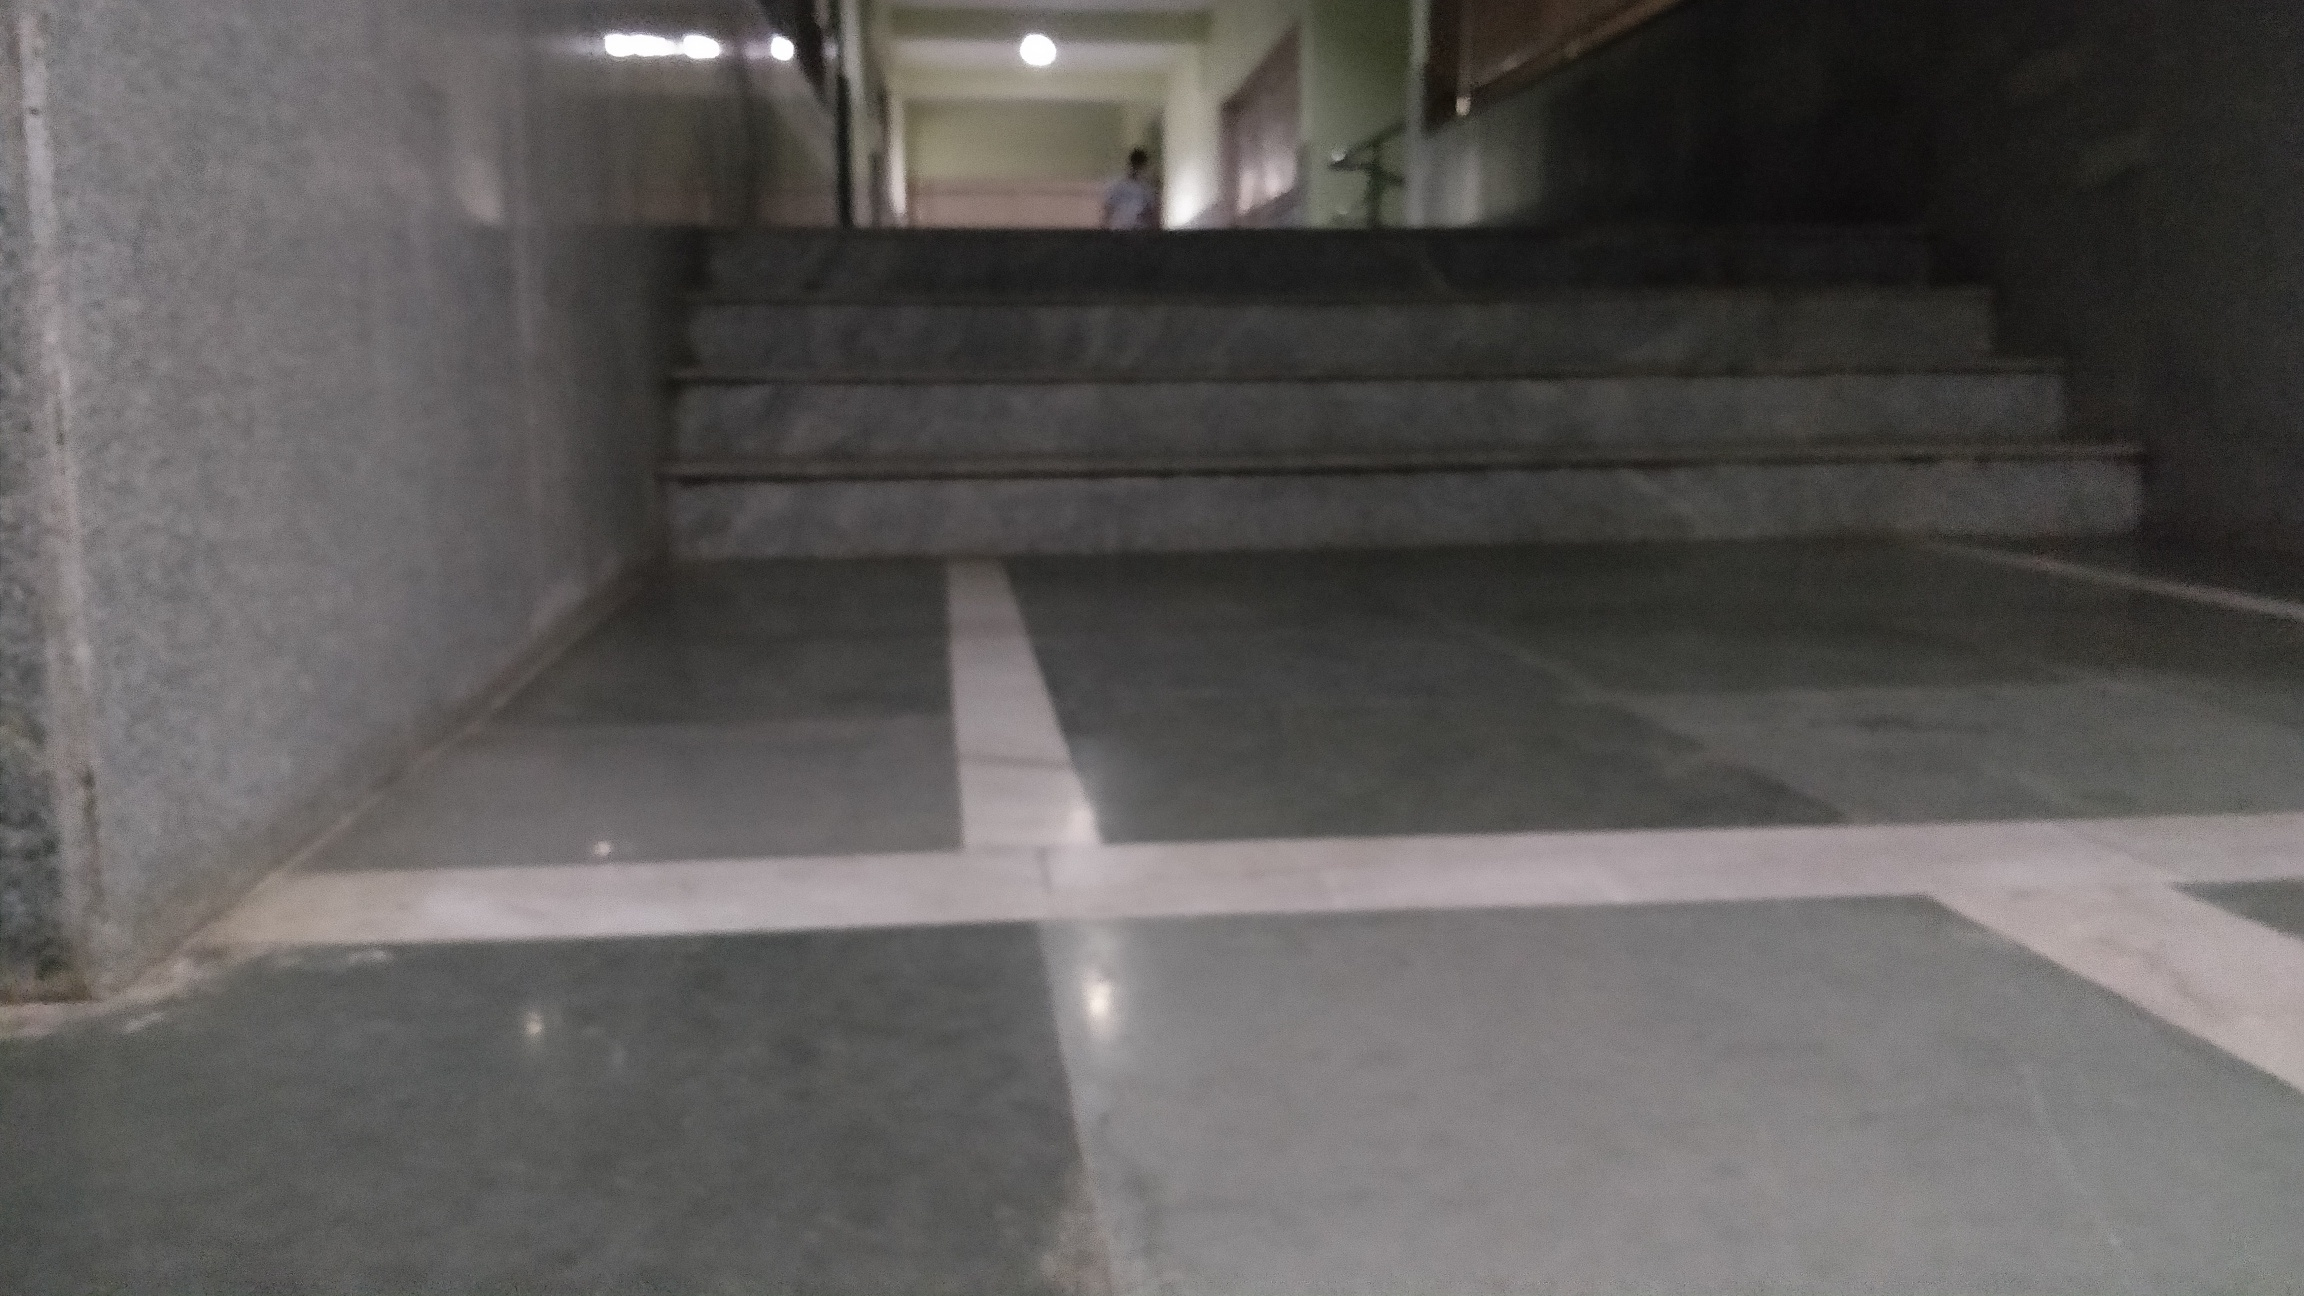stairs_up: (661, 204, 2133, 543)
